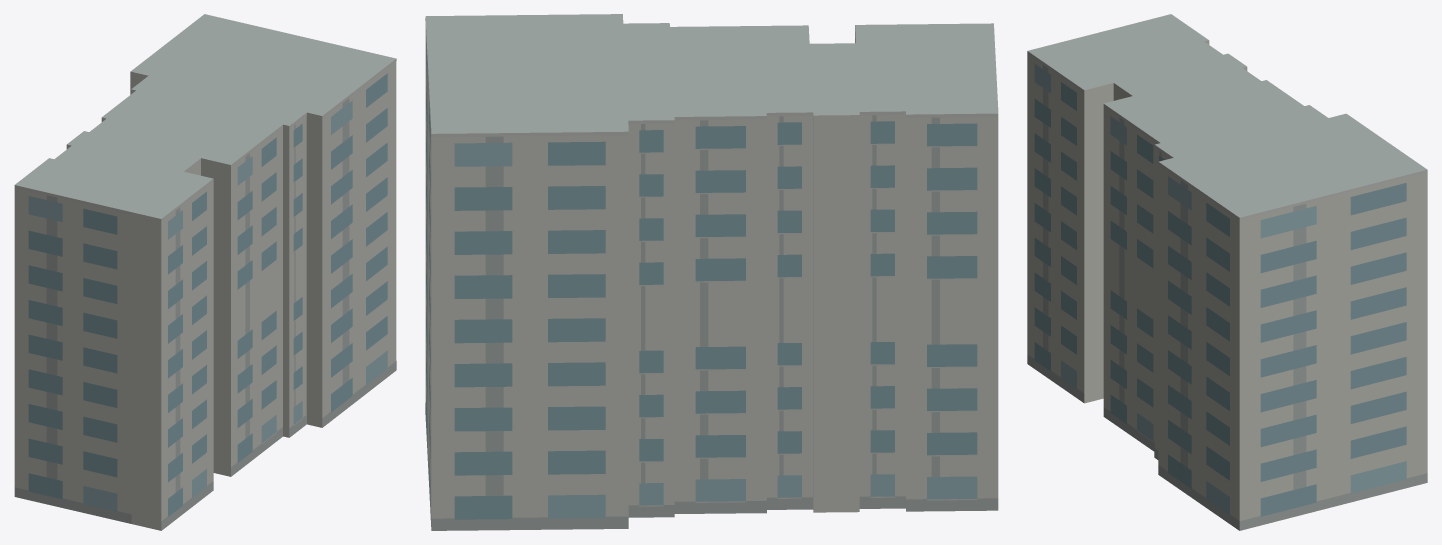
File: survey-upis-32955606.glb
3 renders of one model, left to right at view 1: azimuth 30°, elevation 25°; view 2: azimuth 150°, elevation 25°; view 3: azimuth 270°, elevation 25°, orthographic. The views are drawn at different scales.
Visible parts, largest first — view 1: survey-upis-32955606.tmp; view 2: survey-upis-32955606.tmp; view 3: survey-upis-32955606.tmp.
Part boxes in pixels (box(x1,y1,x2,y2)): survey-upis-32955606.tmp: box(14, 14, 396, 530); survey-upis-32955606.tmp: box(425, 14, 998, 530); survey-upis-32955606.tmp: box(1027, 14, 1427, 530).
Bounding box in the file's own units: 38.32 × 27.45 × 31.81.
